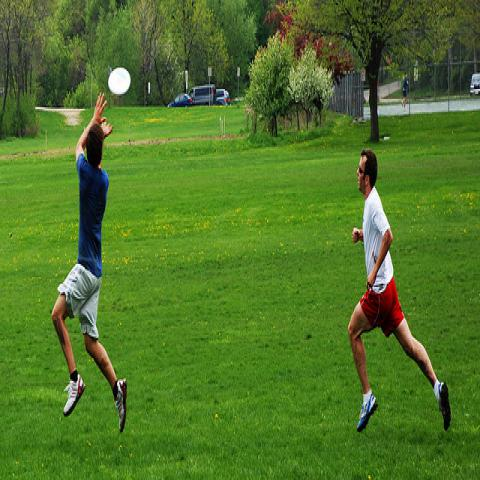car: (168, 93, 192, 109), (216, 88, 228, 106)
truck: (188, 86, 214, 105), (470, 73, 480, 97)
